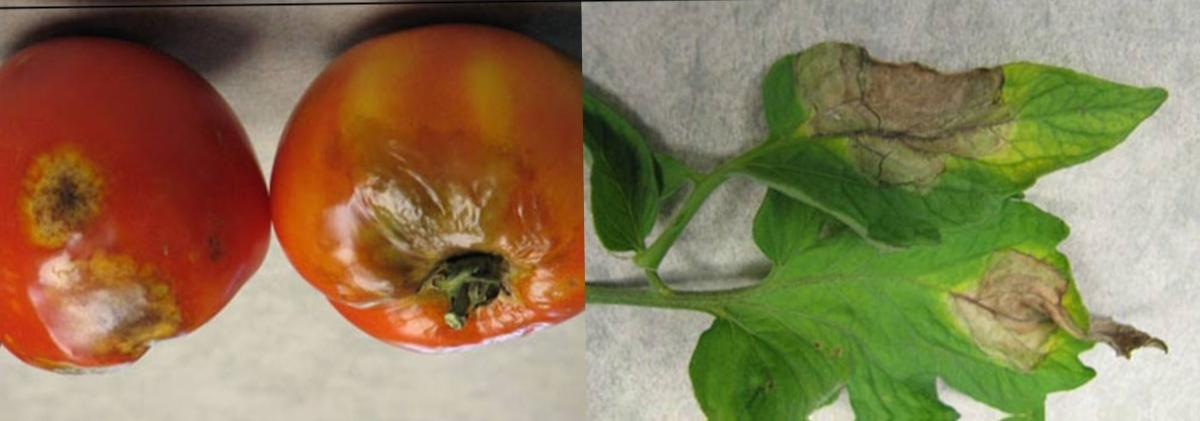Tomato leaf late blight: (711, 4, 1195, 254), (649, 196, 1177, 414)
